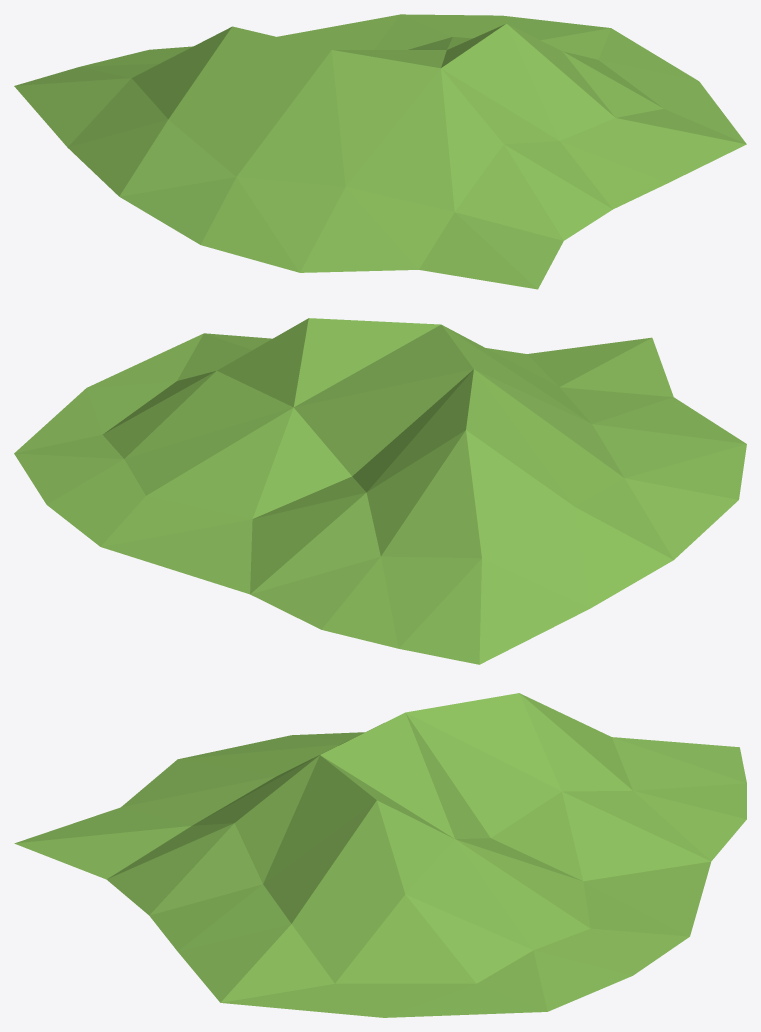
The model's file is MT_Mountain_S_a_19.fbx.
3 renders of one model, top to bottom at view 1: azimuth 30°, elevation 25°; view 2: azimuth 150°, elevation 25°; view 3: azimuth 270°, elevation 25°, orthographic. The views are drawn at different scales.
Visible parts, largest first — view 1: MT_Mountain_S_a_19; view 2: MT_Mountain_S_a_19; view 3: MT_Mountain_S_a_19.
Part boxes in pixels (x1,y1,x2,y2): MT_Mountain_S_a_19: [14, 14, 746, 289]; MT_Mountain_S_a_19: [14, 318, 746, 664]; MT_Mountain_S_a_19: [14, 693, 746, 1017].
Bounding box in the file's own units: 1875 × 360 × 2012.
